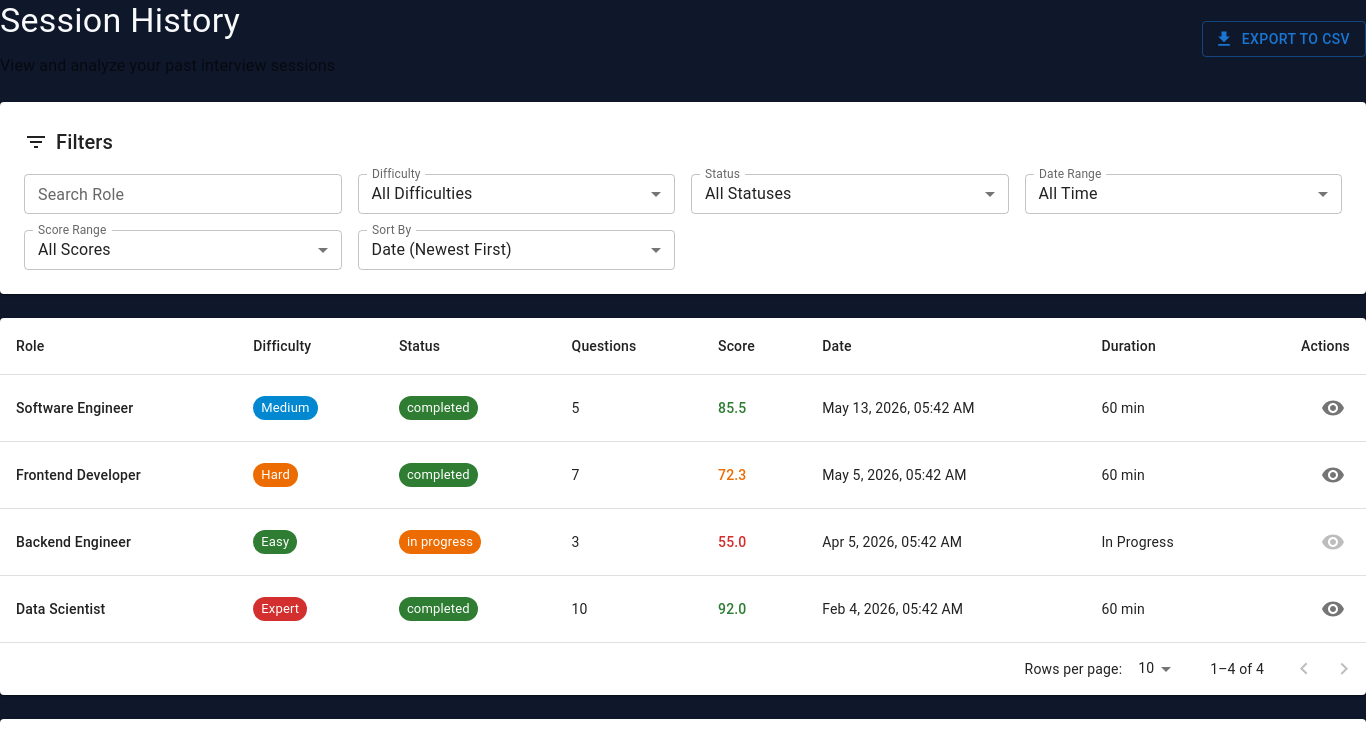
SessionHistoryPage - Search and Filter › Filter Dropdown Functionality › should filter by score range
Expected: the text "Software Engineer" is shown, [16,400,133,416]
Click the dropdown named "Score Range" at {"x": 74, "y": 250}, box [38,240,111,259]
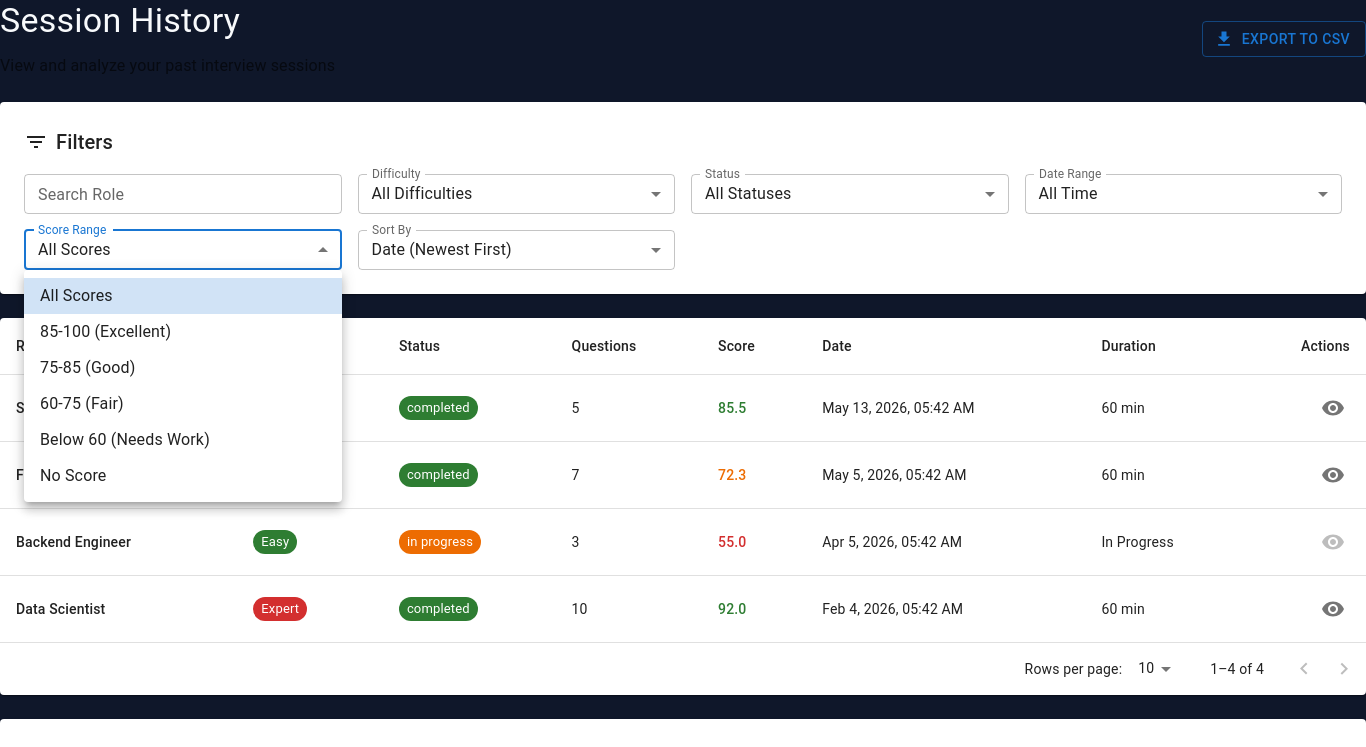
Click the option "85-100 (Excellent)" at {"x": 106, "y": 332}, box [40,322,171,341]
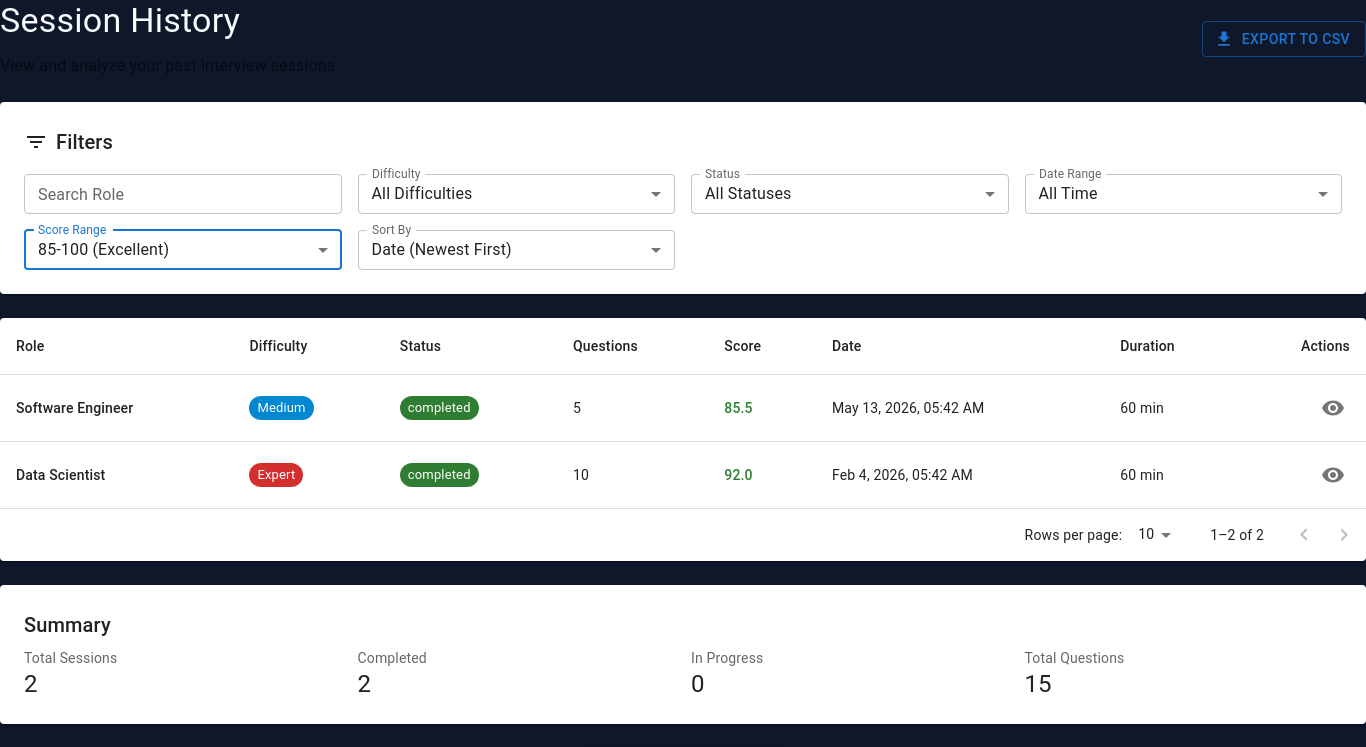
Expected: the text "Software Engineer" is shown, [16,400,133,416]
Expected: the text "Frontend Developer" is gone
